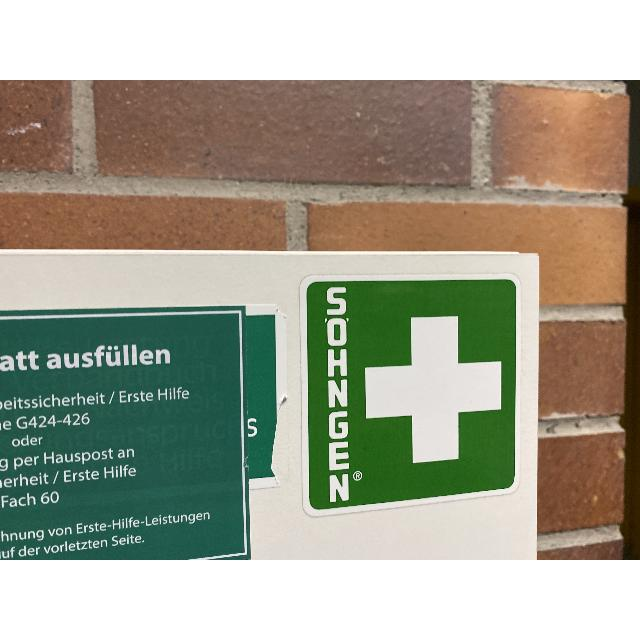first aid kit: (298, 274, 522, 516)
